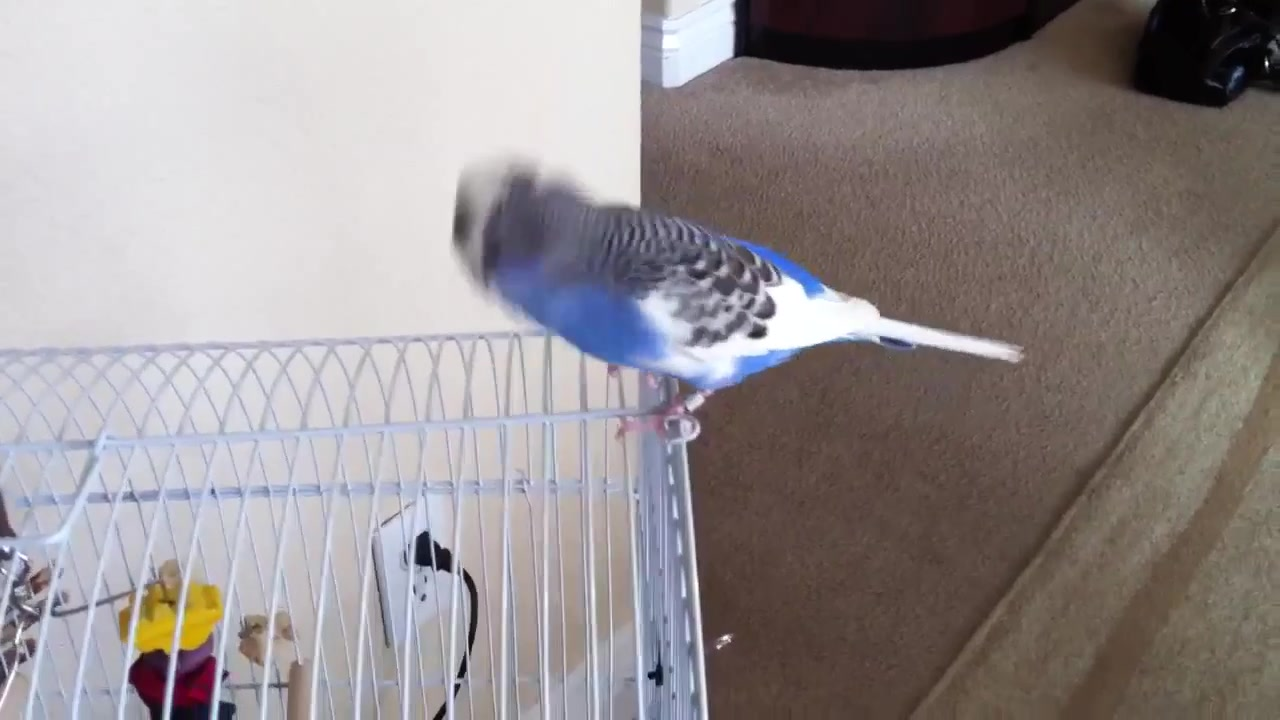bird: (449, 152, 1027, 447)
